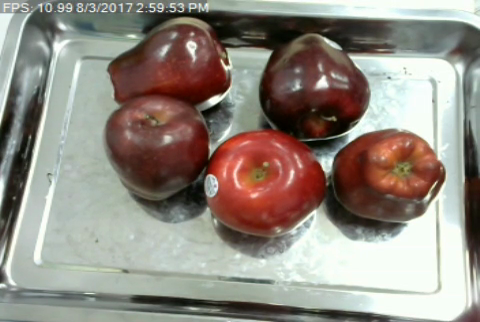Apple: (196, 127, 328, 240), (256, 28, 374, 146), (103, 15, 236, 113), (101, 90, 216, 202), (327, 125, 452, 228)
